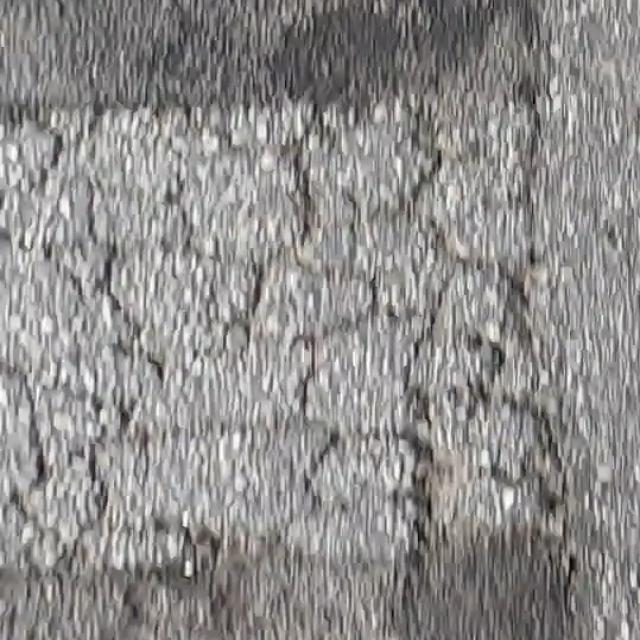PIEL DE COCODRILO: (0, 0, 596, 639)
